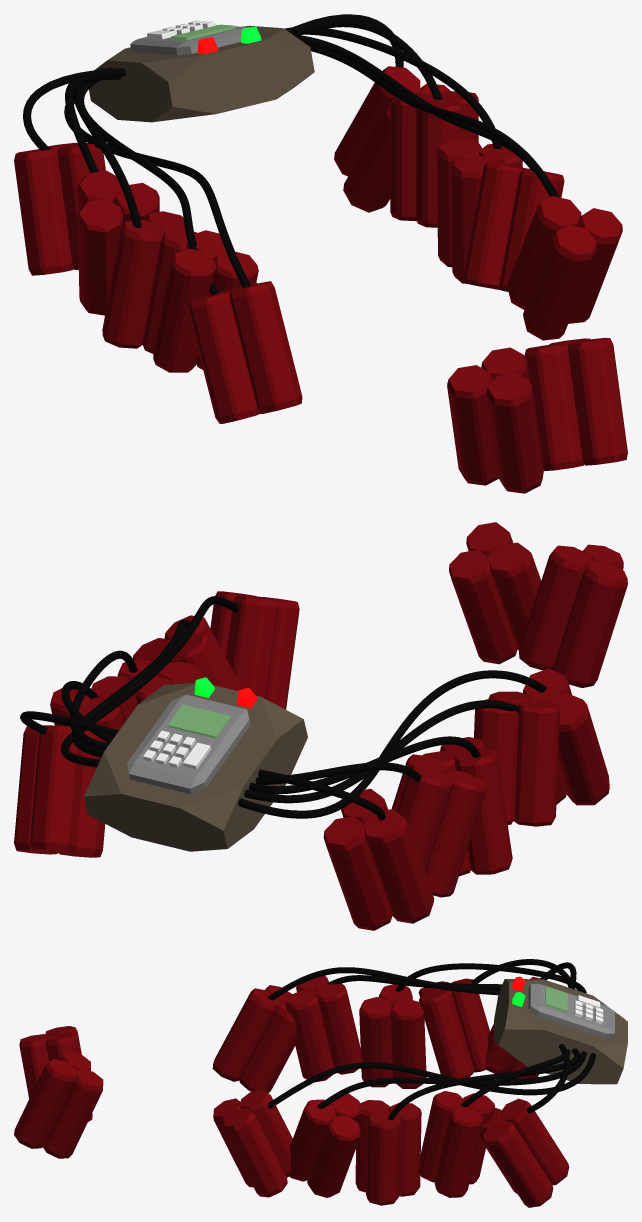
The model's file is taxibombs.fbx.
3 views of the same model, one above another, from view 1: azimuth 30°, elevation 25°; view 2: azimuth 150°, elevation 25°; view 3: azimuth 270°, elevation 25° (orthographic). The views are drawn at different scales.
Parts seen in each view (by area): view 1: Cylinder.001, Cylinder.004, Cube, Cylinder.005, Cylinder.002, Cylinder.003, Cylinder.006, Cube.001; view 2: Cylinder.001, Cylinder.004, Cube, Cylinder.002, Cylinder.006, Cylinder.005, Cylinder.003, Cube.001, Cube.002, Cube.012; view 3: Cylinder.004, Cylinder.001, Cube, Cylinder.005, Cylinder.003, Cylinder.006, Cylinder.002, Cube.001, Cube.002, Cube.012.
Boxes of the visible parts, x1,y1,x2,y2 form: Cylinder.001: (14,143,302,423); Cylinder.004: (334,66,622,340); Cube: (89,25,314,122); Cylinder.005: (524,337,627,471); Cylinder.002: (447,347,543,493); Cylinder.003: (285,14,559,197); Cylinder.006: (23,67,250,294); Cube.001: (130,25,248,55); Cylinder.001: (323,668,609,930); Cylinder.004: (14,591,299,857); Cube: (84,682,307,851); Cylinder.002: (519,544,627,687); Cylinder.006: (238,670,546,820); Cylinder.005: (449,522,541,664); Cylinder.003: (20,596,238,767); Cube.001: (126,694,250,794); Cube.002: (143,730,211,769); Cube.012: (168,704,230,738); Cylinder.004: (213,1089,569,1207); Cylinder.001: (212,975,539,1092); Cube: (494,979,627,1084); Cylinder.005: (14,1051,103,1158); Cylinder.003: (268,1044,595,1119); Cylinder.006: (267,959,586,1000); Cylinder.002: (19,1026,92,1121); Cube.001: (528,983,614,1038); Cube.002: (574,995,603,1024); Cube.012: (545,986,567,1012).
Size of the model in its own units: 238 by 117 by 411.
